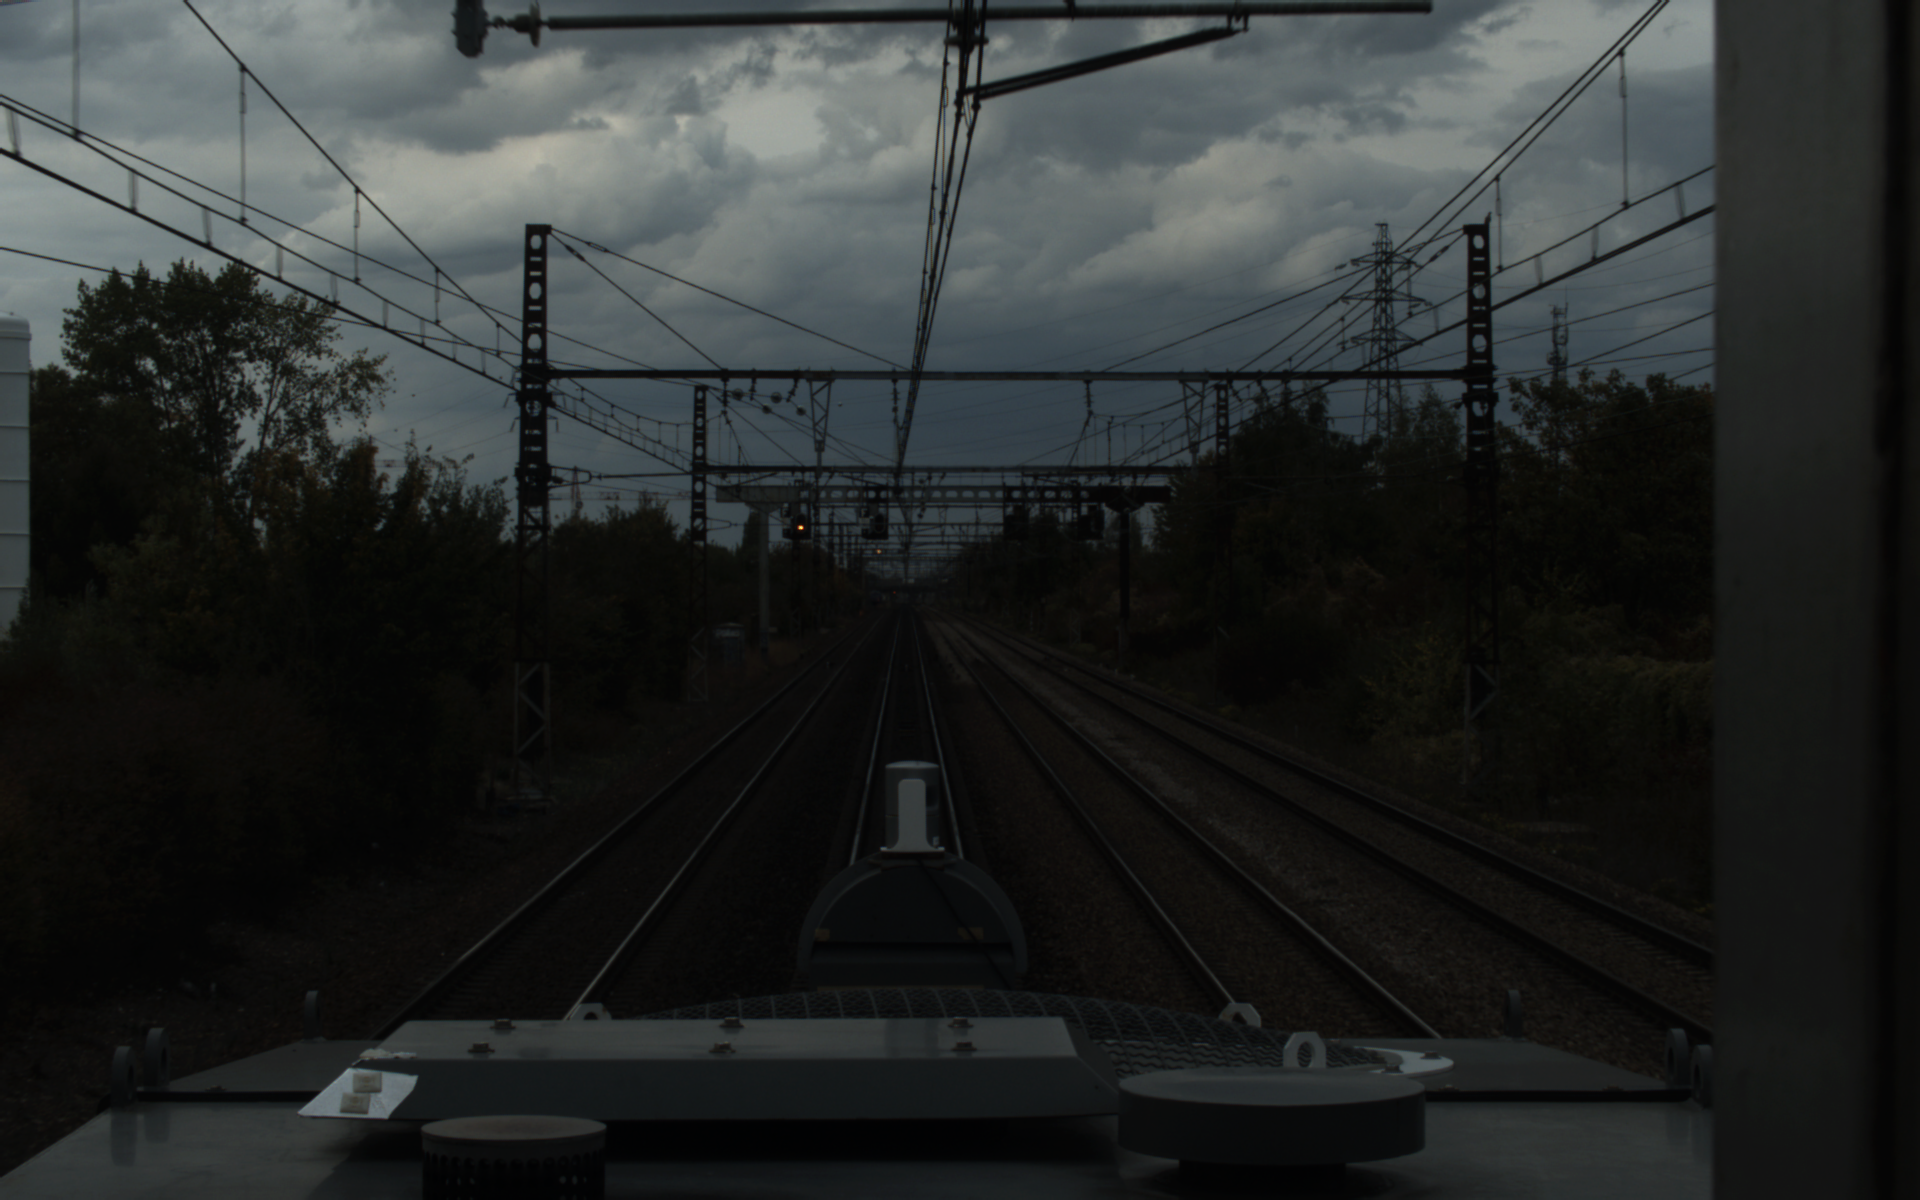Blinking: (871, 512, 886, 534)
Fixed: (792, 512, 809, 535)
